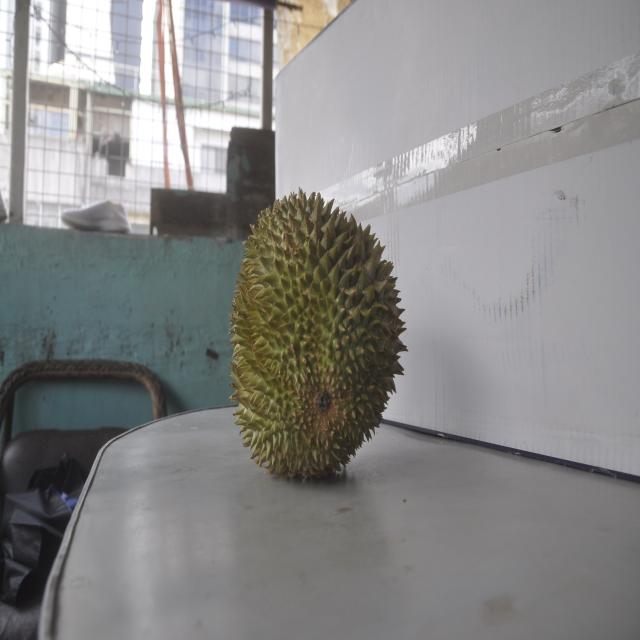mature: (229, 187, 400, 479)
